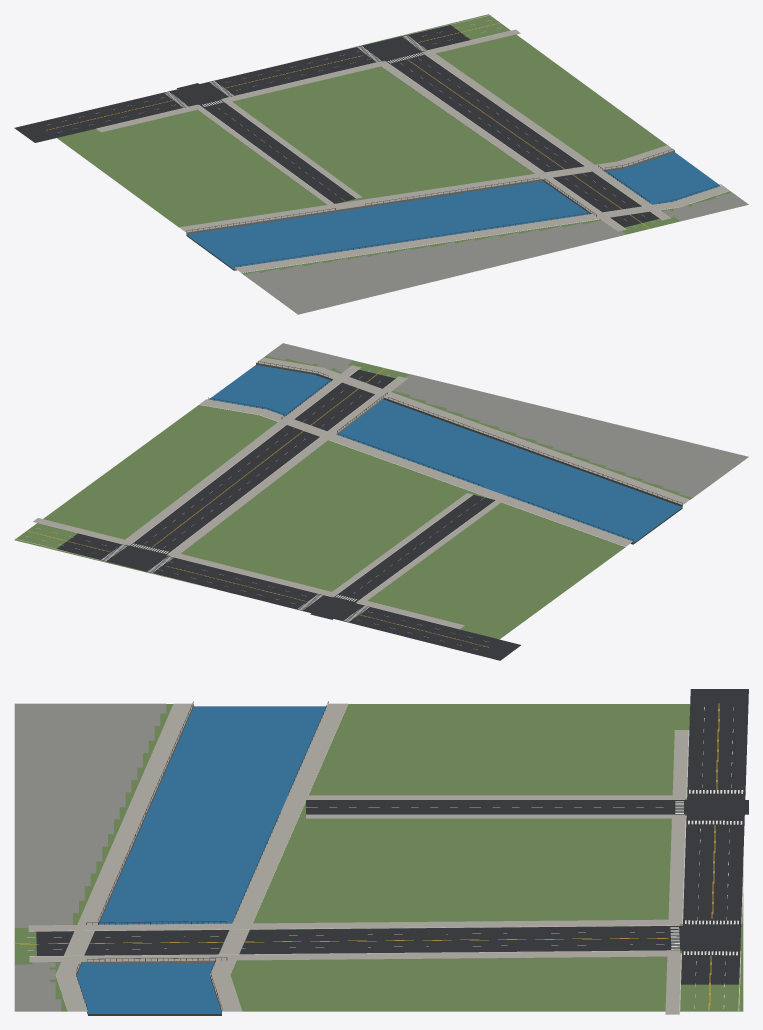
File: Ground_6_2.fbx
3 views of the same model, one above another, from view 1: azimuth 30°, elevation 25°; view 2: azimuth 150°, elevation 25°; view 3: azimuth 270°, elevation 25° (orthographic). The views are drawn at different scales.
Visible parts, largest first — view 1: Ground_6_2; view 2: Ground_6_2; view 3: Ground_6_2.
Boxes of the visible parts, <box> form: Ground_6_2: <box>14,14,748,314</box>; Ground_6_2: <box>14,343,748,660</box>; Ground_6_2: <box>14,689,748,1015</box>.
Bounding box in the file's own units: 265 × 2.7 × 252.
